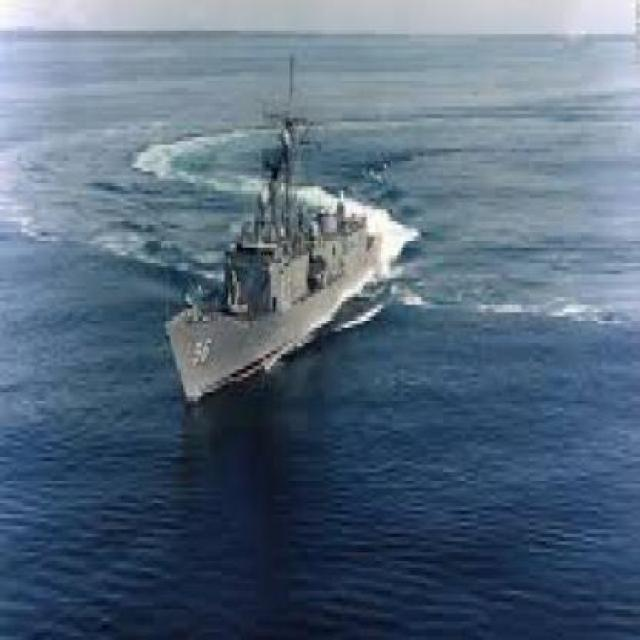no-oil: (2, 24, 640, 634)
